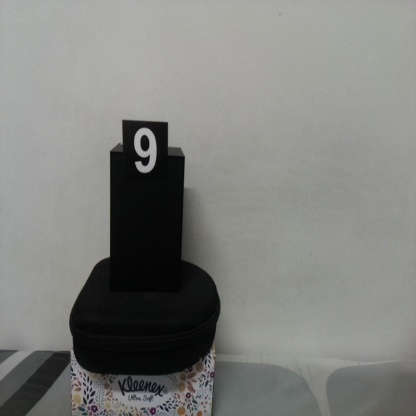id_9: (122, 120, 169, 190)
